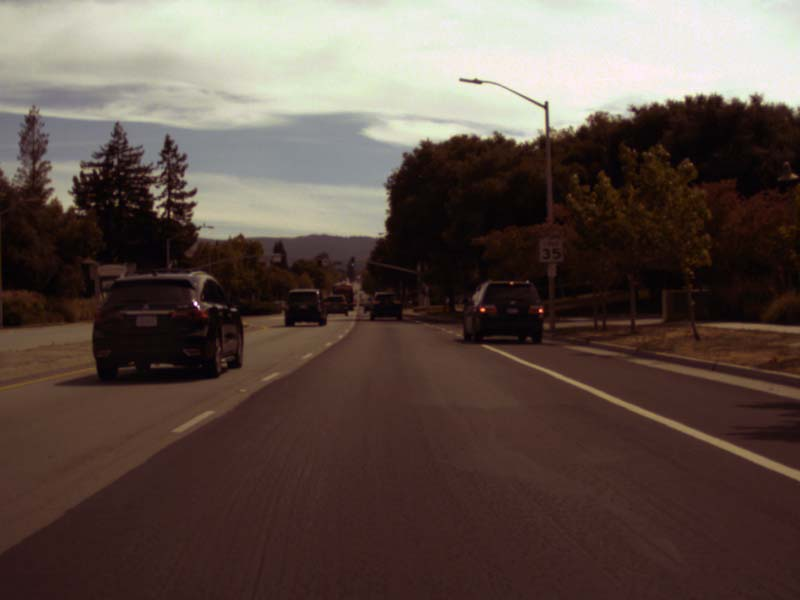Green: (349, 257, 354, 267)
Red: (316, 255, 322, 266)
